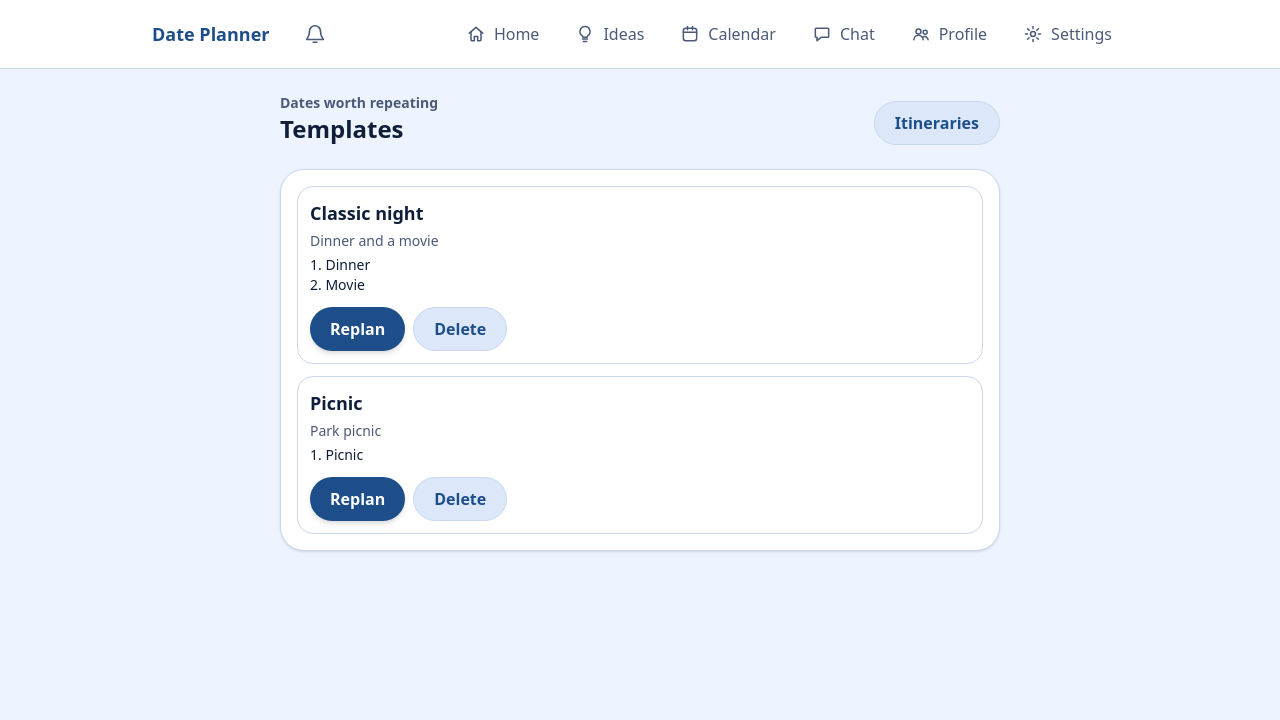
Test: TemplatesPage › shows the server's message when the planner is unavailable
The image size is (1280, 720).
Click the button with aria-label "Replan Classic night": (358, 329) [310,307,405,351]
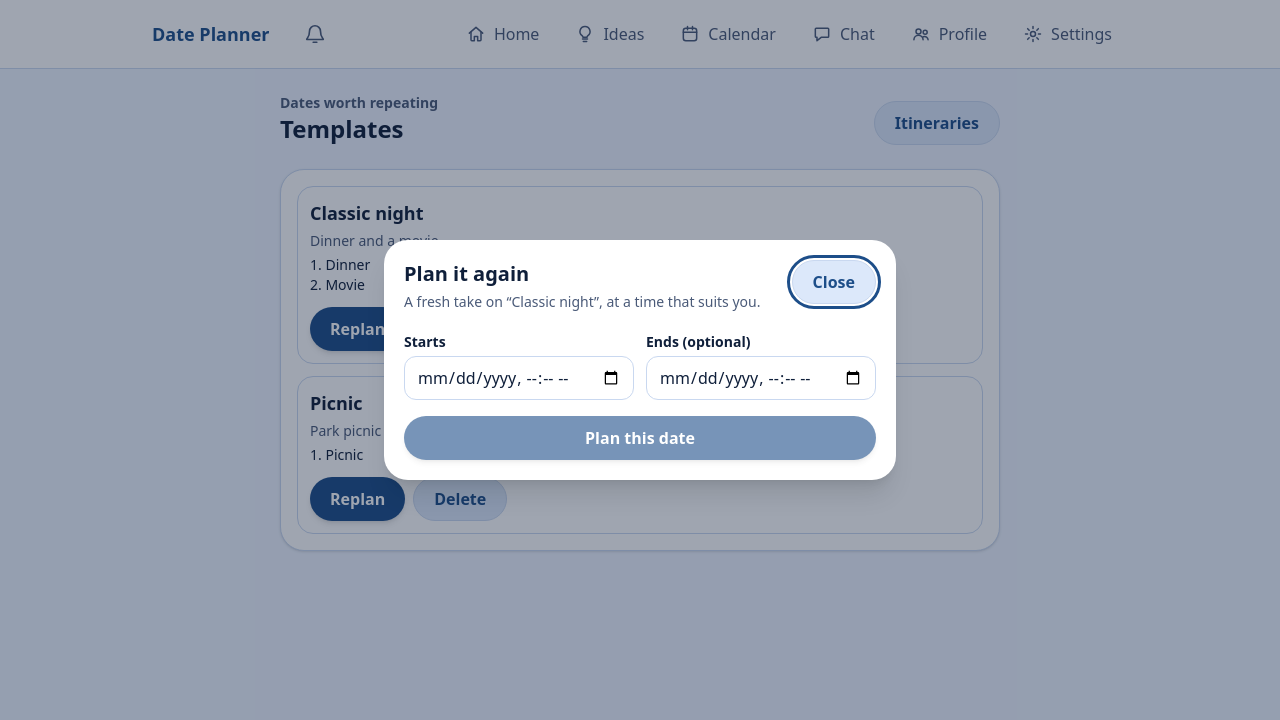
In the field labelled "Starts": (519, 378) [404,356,634,400], type "2026-12-12T19:00"
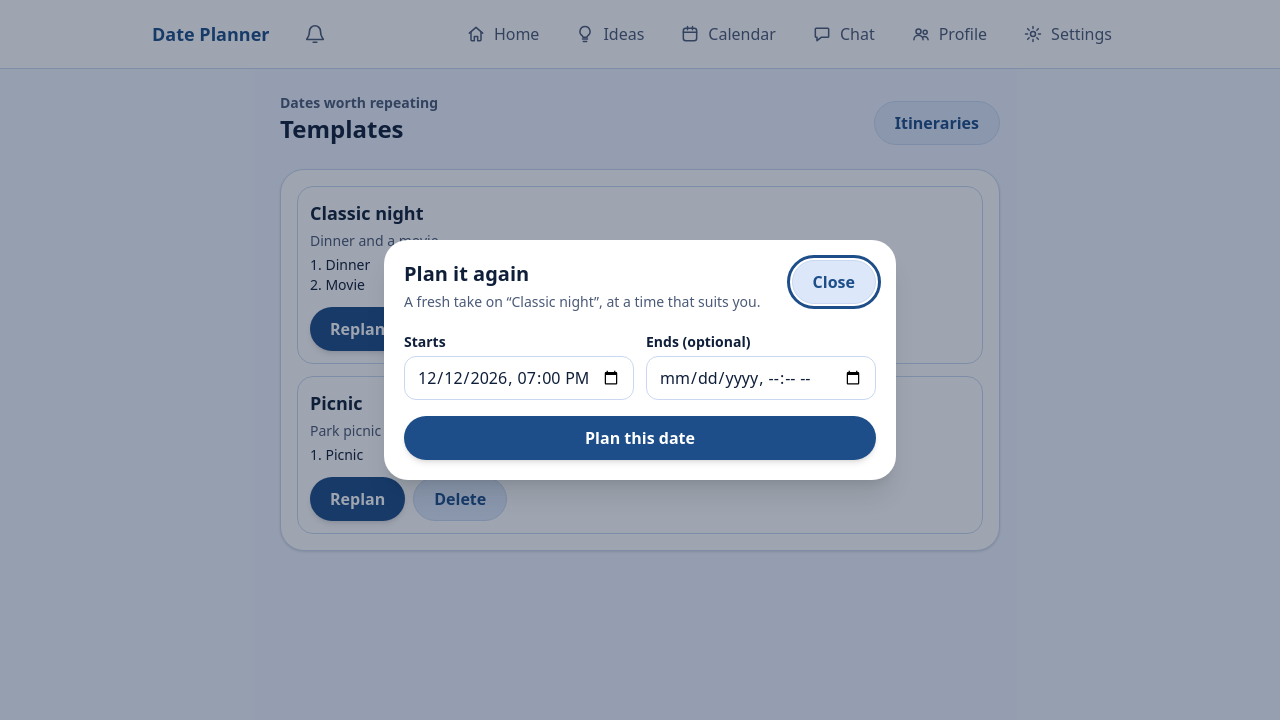
In the field labelled "Ends (optional)": (761, 378) [646,356,876,400], type "2026-12-12T18:00"
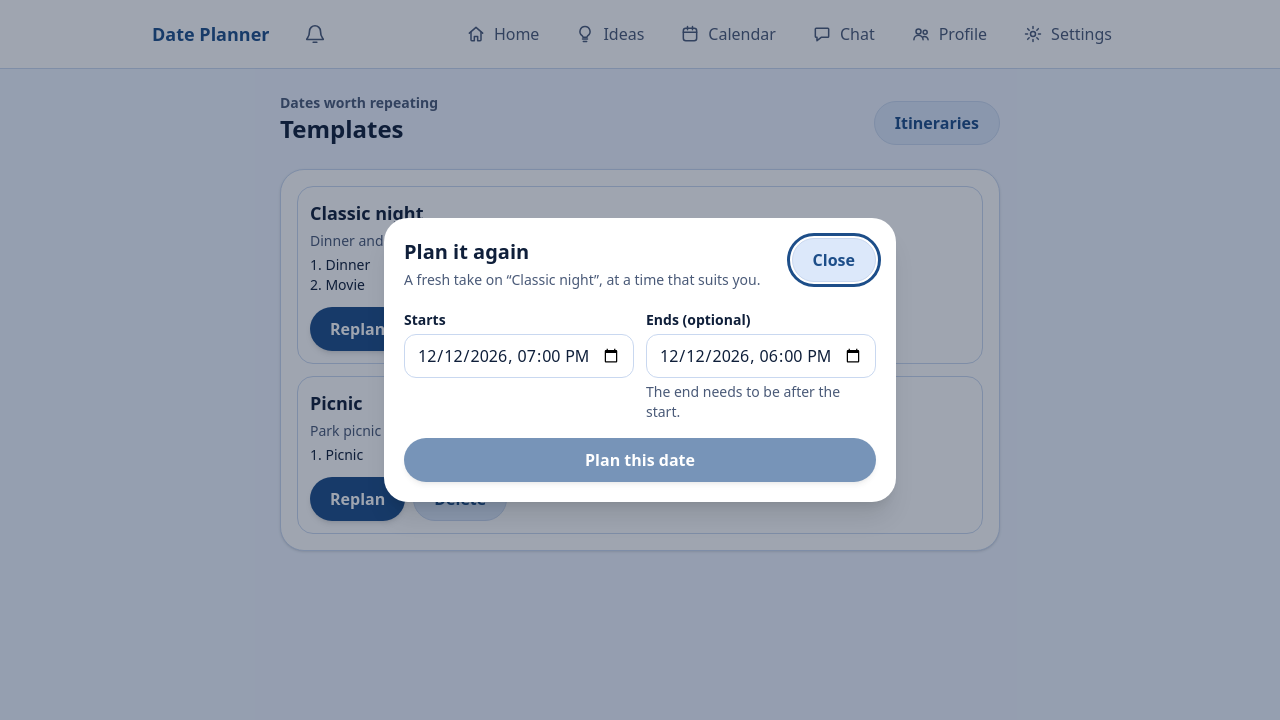
expect the button "Plan this date" is disabled: met, box [404,438,876,482]
Replace the text in the field labelled "Ends (optional)" with "2026-12-12T22:00": (761, 356) [646,334,876,378]
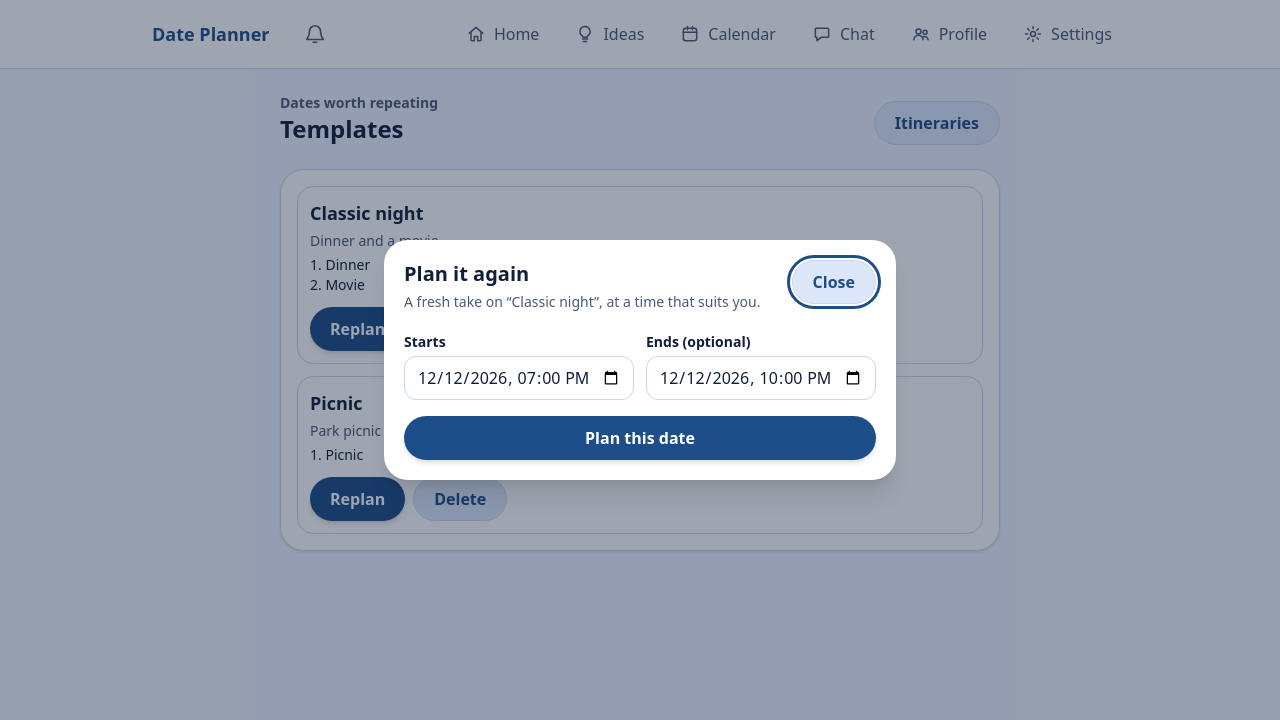
Click the button "Plan this date": (640, 438) [404,416,876,460]
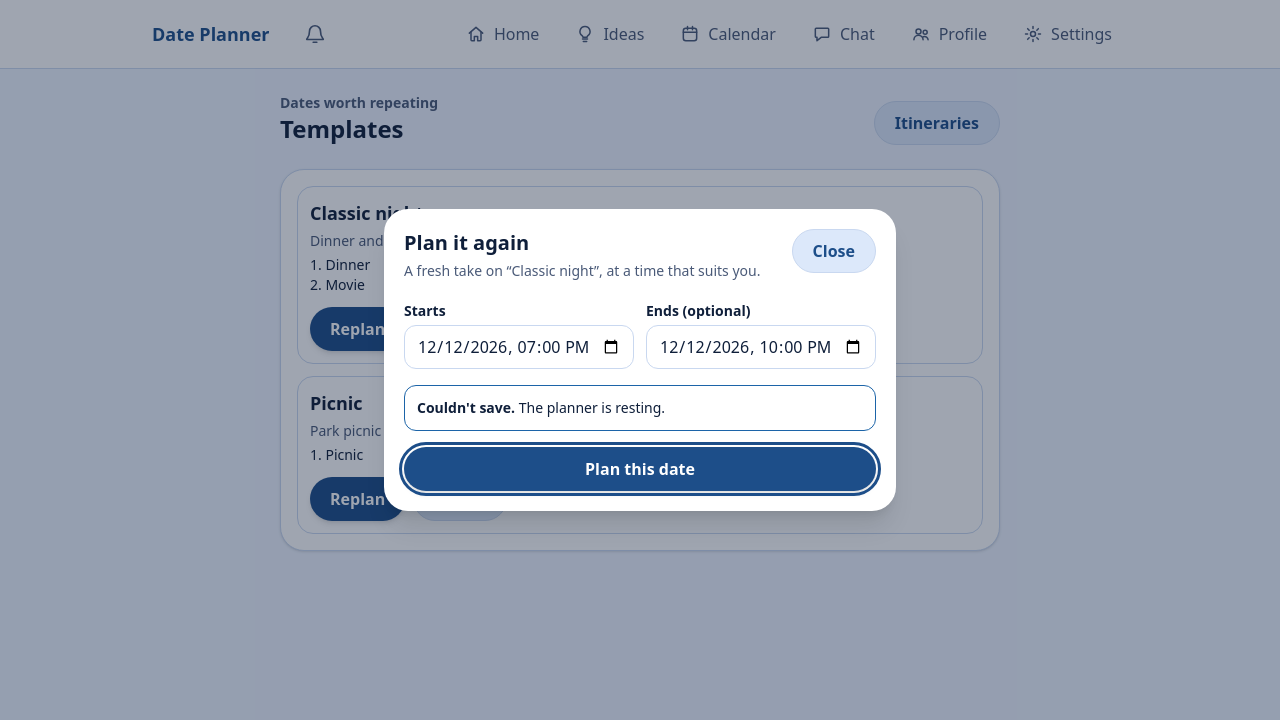
expect the message shows "The planner is resting.": met, box [519,398,665,417]
